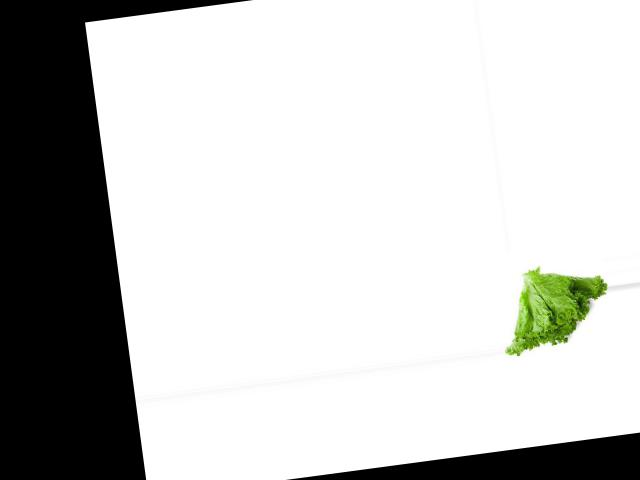lettuce: (494, 260, 616, 359)
